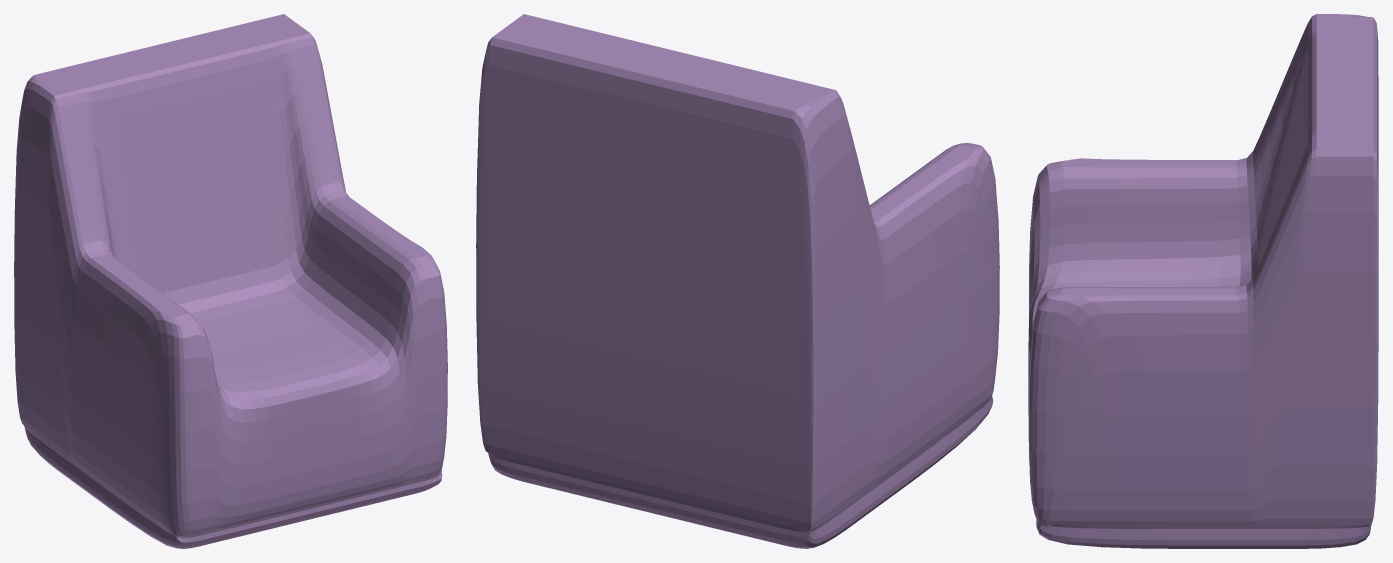
File: Sessel_schlecht.fbx
3 views of the same model, side by side, from view 1: azimuth 30°, elevation 25°; view 2: azimuth 150°, elevation 25°; view 3: azimuth 270°, elevation 25° (orthographic). The views are drawn at different scales.
Parts seen in each view (by area): view 1: Cube; view 2: Cube; view 3: Cube.
Boxes of the visible parts, x1,y1,x2,y2 form: Cube: (14,14,447,548); Cube: (476,14,999,548); Cube: (1028,14,1378,548).
Bounding box in the file's own units: 315 × 401 × 316.
